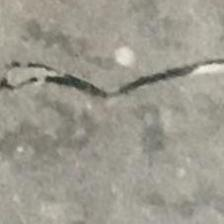Crack: (0, 38, 224, 140)
